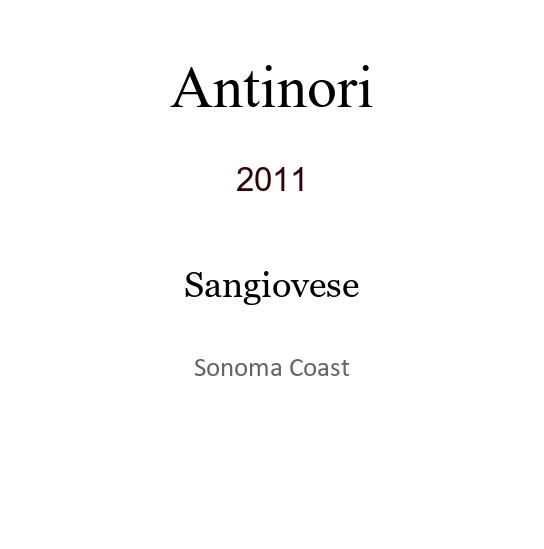brand: (170, 53, 374, 95)
region: (194, 355, 350, 372)
variety: (184, 263, 359, 297)
vintage: (236, 161, 308, 185)
